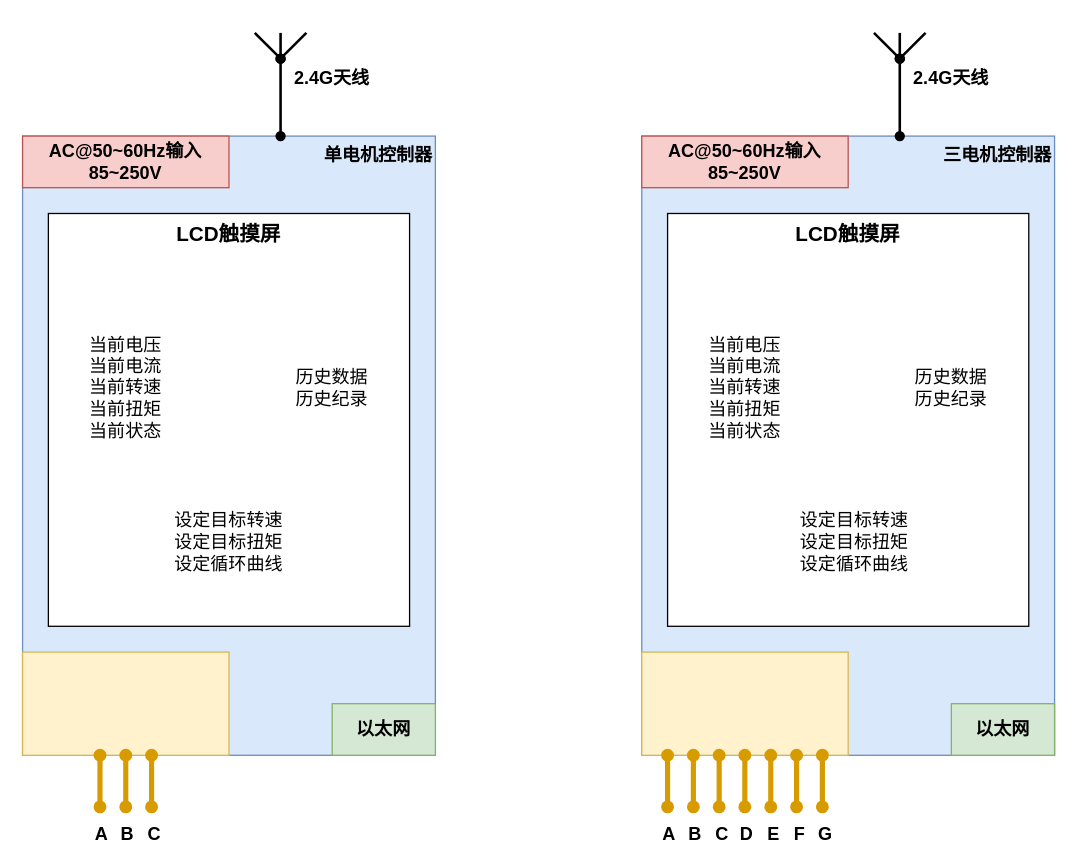
Image size: 1077x866. Some labels were removed from this diagram. The shapes that lost their labels are listed below. From the top down, each one's centre as x and y in pixels, then its label:
At point (125, 703): "三根输出线 线径0.75平方毫米 耐高温， 绝缘耐压1000V".
At point (744, 703): "七根输出线 线径0.75平方毫米 耐高温， 绝缘耐压1000V".
